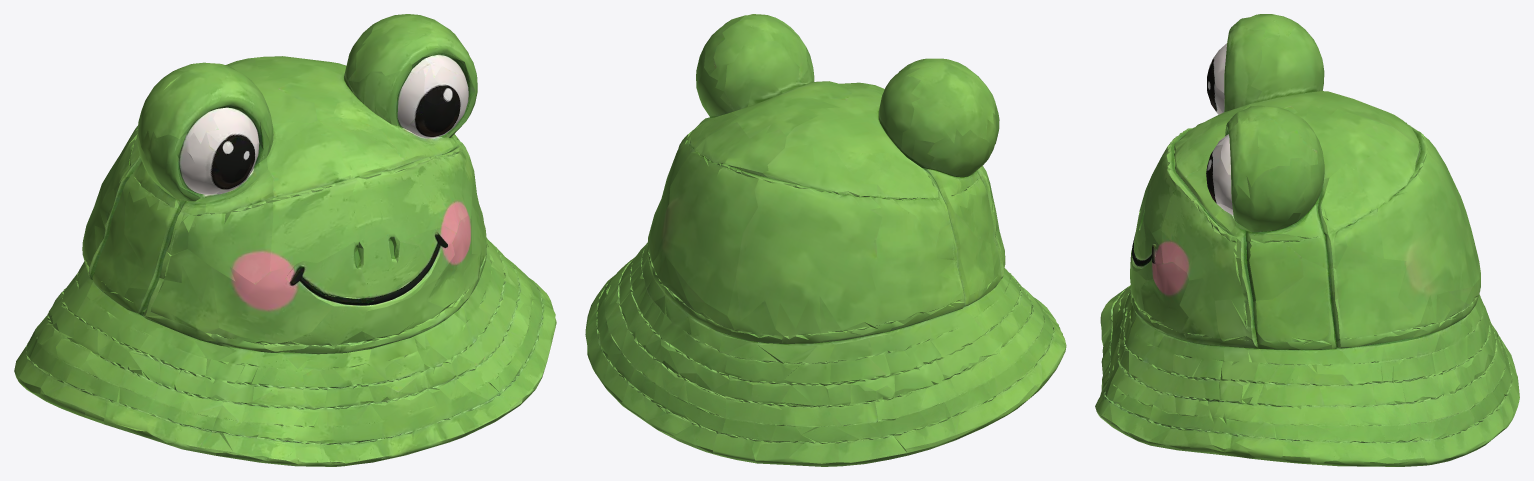
The model's file is frog_bucket.glb.
3 views of the same model, side by side, from view 1: azimuth 30°, elevation 25°; view 2: azimuth 150°, elevation 25°; view 3: azimuth 270°, elevation 25° (orthographic). The views are drawn at different scales.
Visible parts, largest first — view 1: Mesh_0; view 2: Mesh_0; view 3: Mesh_0.
Boxes of the visible parts, x1,y1,x2,y2 form: Mesh_0: [14, 14, 556, 466]; Mesh_0: [585, 14, 1066, 466]; Mesh_0: [1095, 14, 1519, 466].
Bounding box in the file's own units: 1 × 0.7227 × 0.8302.
Materials: 1 (1 with a texture image).
